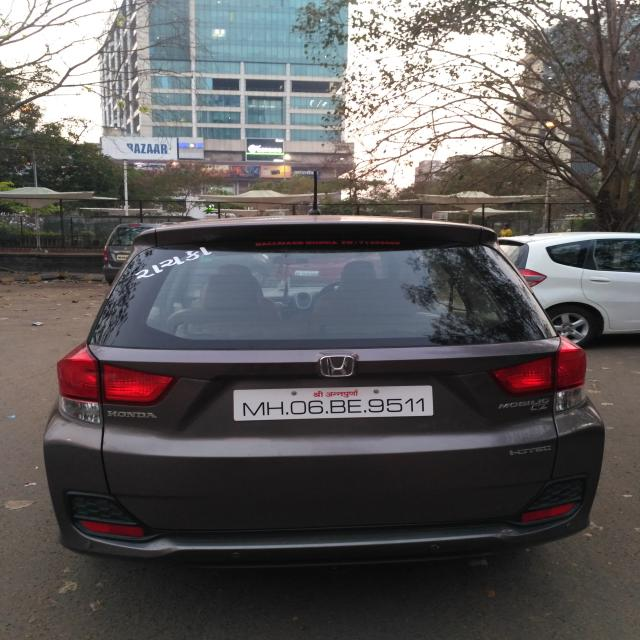Number-Plate: (232, 388, 438, 420)
